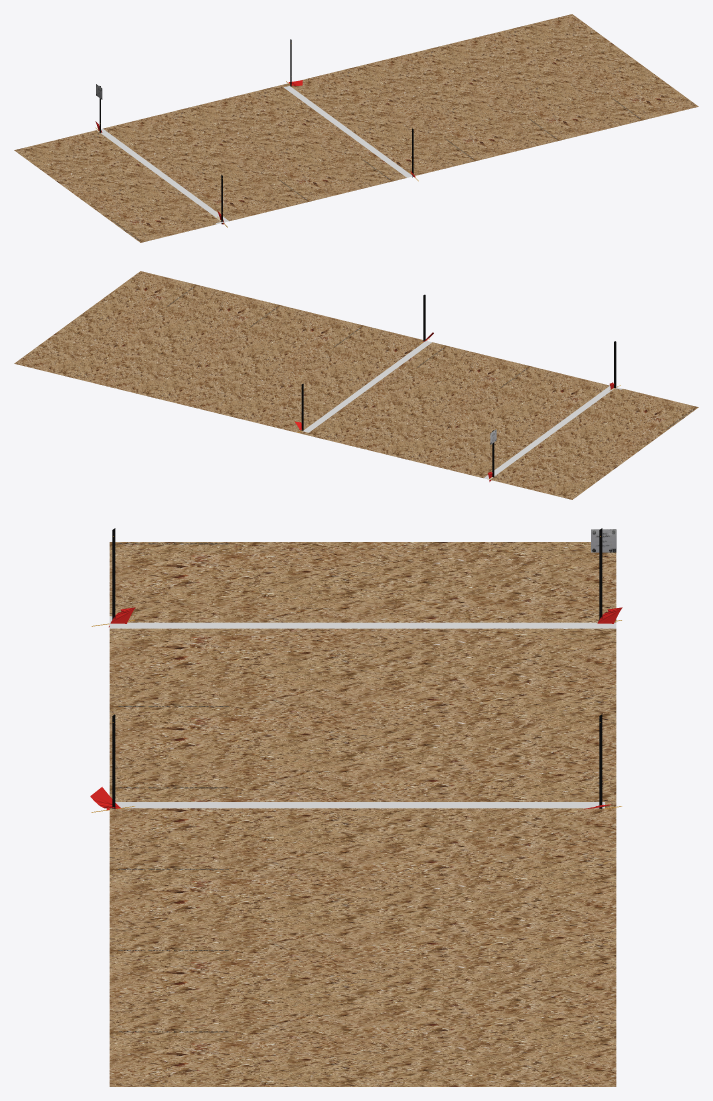
The model's file is obstacle_open_day.glb.
3 views of the same model, one above another, from view 1: azimuth 30°, elevation 25°; view 2: azimuth 150°, elevation 25°; view 3: azimuth 270°, elevation 25° (orthographic). The views are drawn at different scales.
Parts seen in each view (by area): view 1: Plane.004; view 2: Plane.004; view 3: Plane.004, Plane.005.
Part boxes in pixels (left/top/right/bottom): Plane.004: left=14, top=14, right=698, bottom=242; Plane.004: left=14, top=271, right=698, bottom=499; Plane.004: left=109, top=528, right=616, bottom=1086; Plane.005: left=90, top=607, right=622, bottom=812.
Bounding box in the file's own units: 12.86 × 1.13 × 5.31.
Materials: 6 (2 with a texture image).
